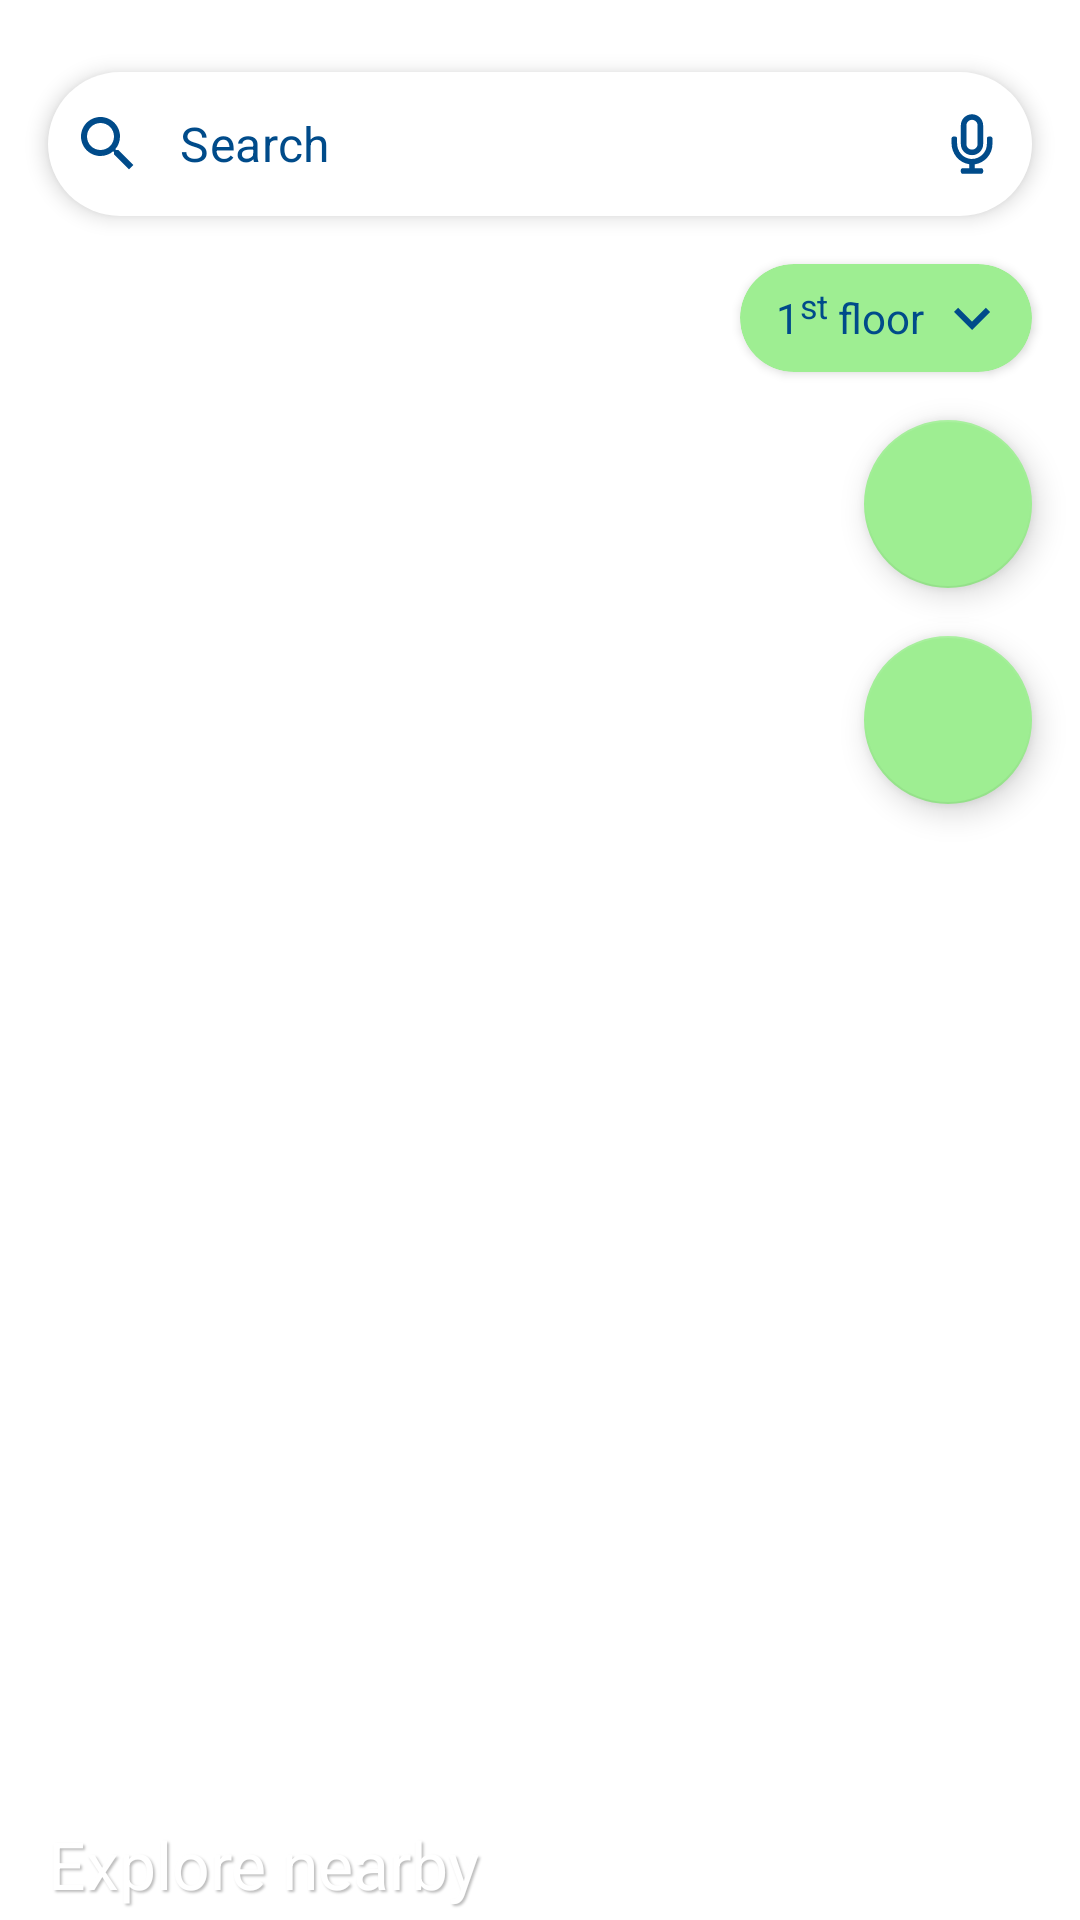

Where icons sit on this 1080 x 1920 app screen, as BBox(x1, y1, x2, y2):
floor spinner: BBox(954, 308, 990, 330)
